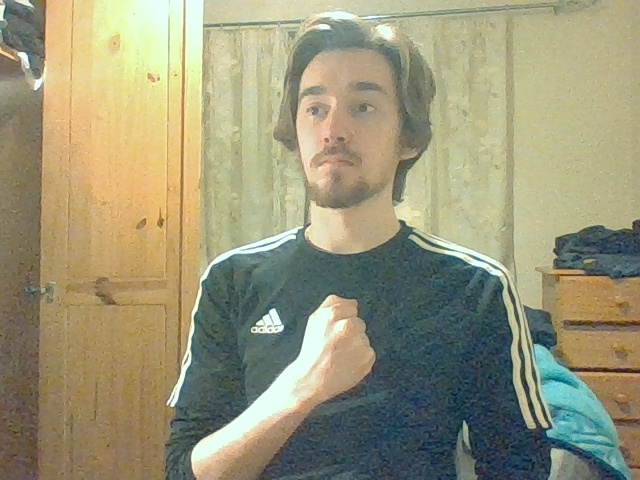my: (304, 293, 376, 391)
